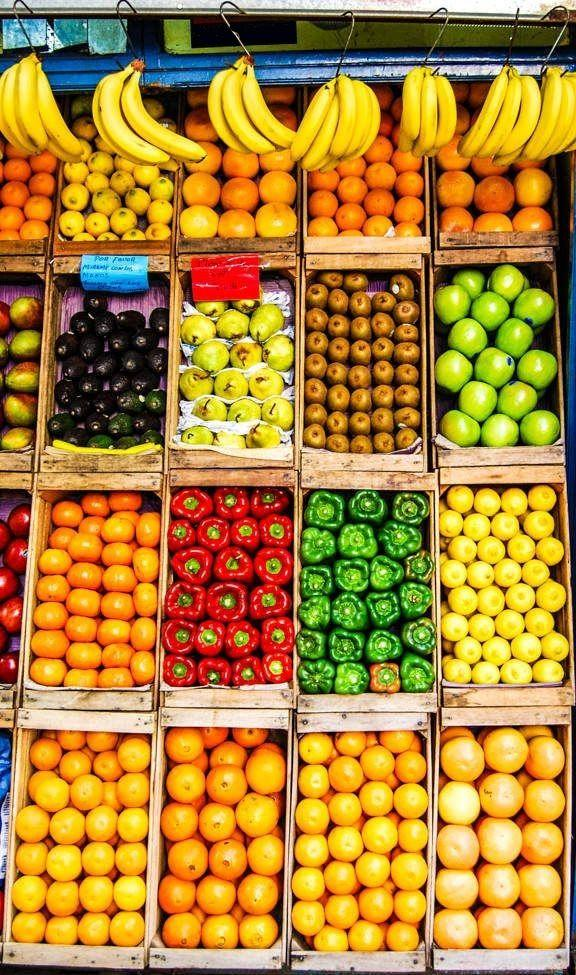banana: (207, 56, 383, 172), (402, 65, 576, 167), (93, 57, 205, 170), (0, 56, 93, 163)
green apple: (438, 269, 558, 449)
lemon: (441, 487, 570, 687)
mandarin: (297, 724, 427, 960), (19, 721, 146, 946), (33, 492, 154, 686)
orange: (440, 727, 569, 951), (163, 726, 284, 948), (182, 150, 293, 237), (437, 162, 551, 239)
pear: (171, 298, 295, 450)
sweet pepper: (303, 486, 428, 693), (170, 486, 294, 689)
